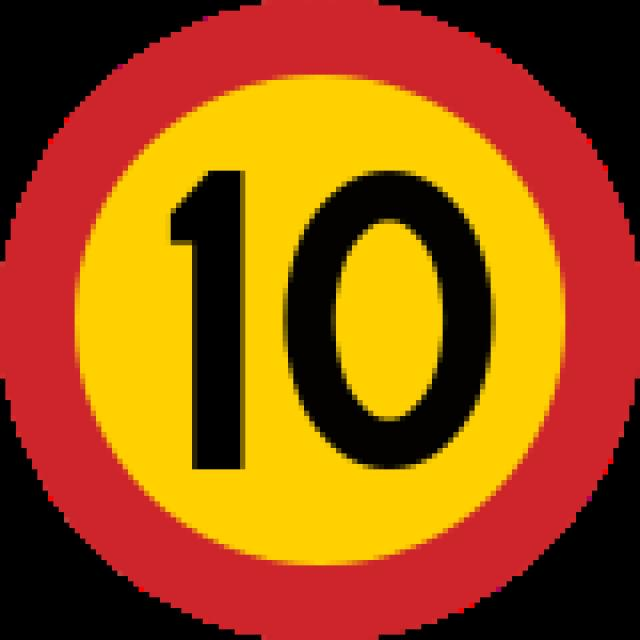Speed Limit -10-: (164, 168, 502, 470)
